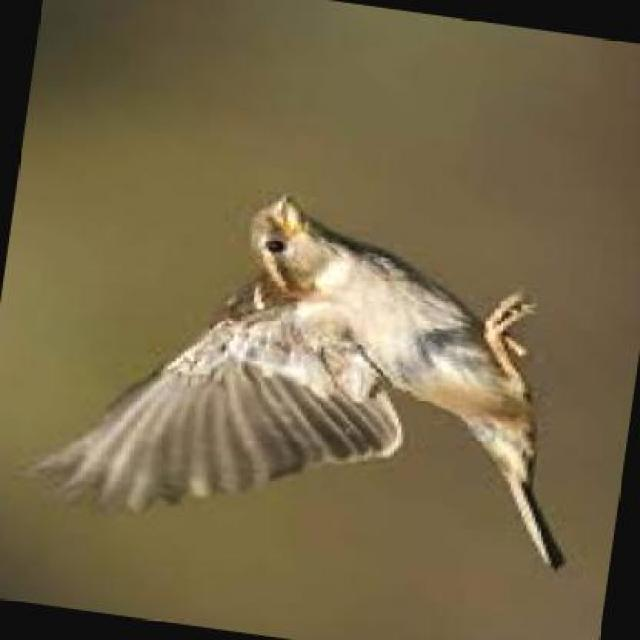Bird: (25, 192, 572, 582)
